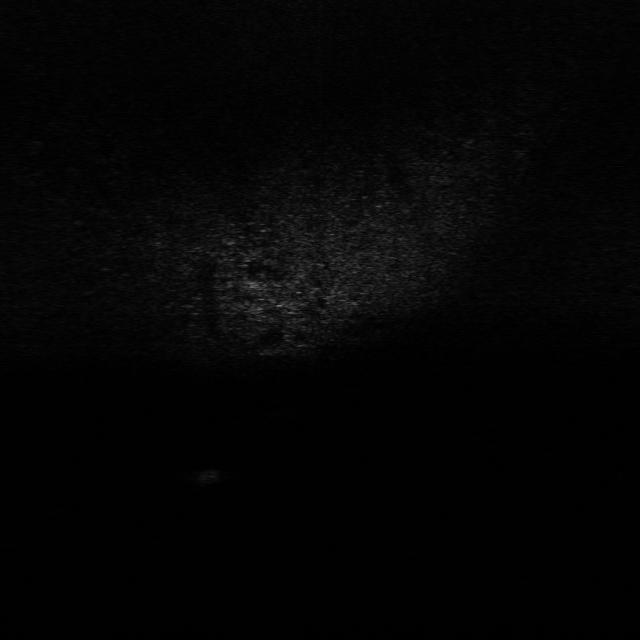cylinder: (194, 468, 220, 489)
